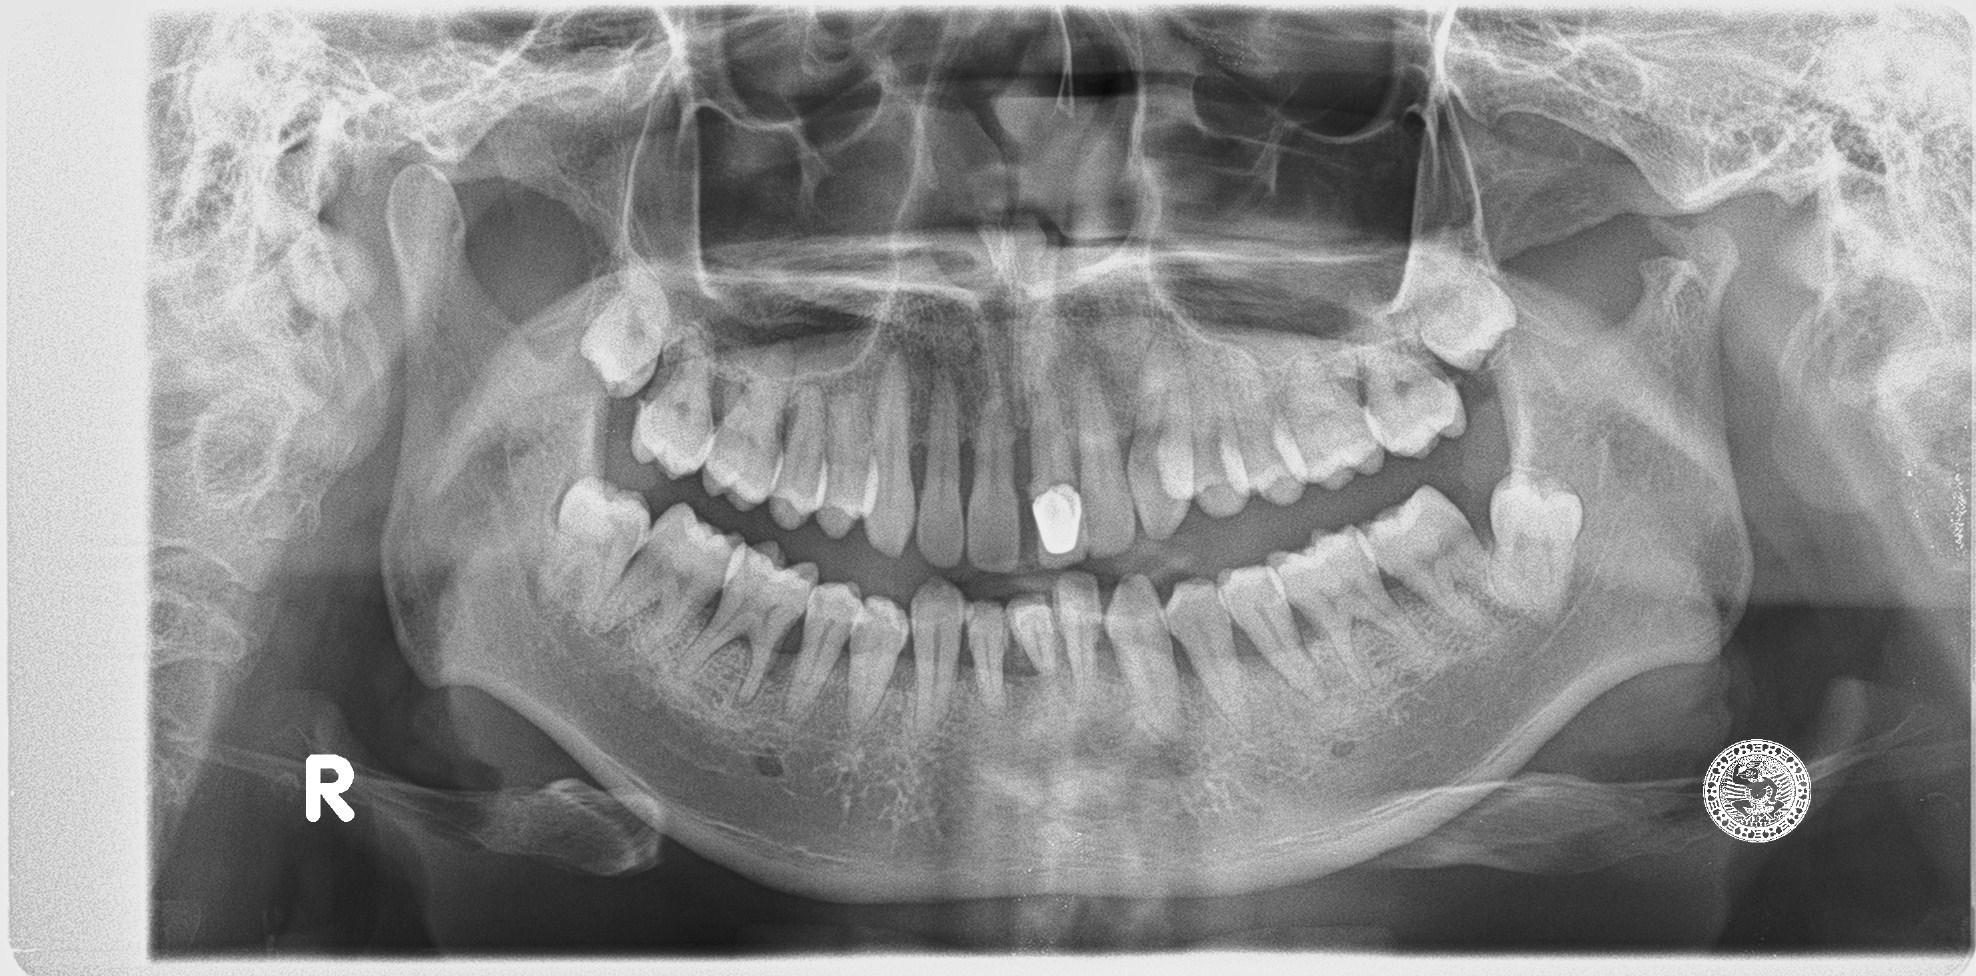Individual Tooth: (1275, 528, 1416, 695), (600, 504, 732, 663), (684, 543, 817, 701), (1345, 293, 1464, 456), (1253, 338, 1381, 488), (1360, 488, 1487, 632), (1203, 340, 1308, 503), (541, 477, 652, 617), (704, 343, 795, 509), (1216, 566, 1324, 701), (1164, 580, 1251, 739), (1127, 335, 1195, 538), (1488, 472, 1582, 614), (633, 324, 715, 478), (1408, 253, 1515, 368), (1071, 362, 1135, 552), (1105, 578, 1180, 741), (1030, 358, 1083, 567), (580, 282, 670, 397), (864, 361, 915, 556), (967, 387, 1020, 570), (789, 584, 863, 714), (1192, 356, 1251, 516), (846, 596, 909, 739), (917, 381, 964, 567), (911, 580, 967, 731), (820, 386, 876, 536), (773, 385, 825, 525), (1054, 572, 1101, 715), (967, 601, 1009, 707), (1006, 595, 1057, 675)
